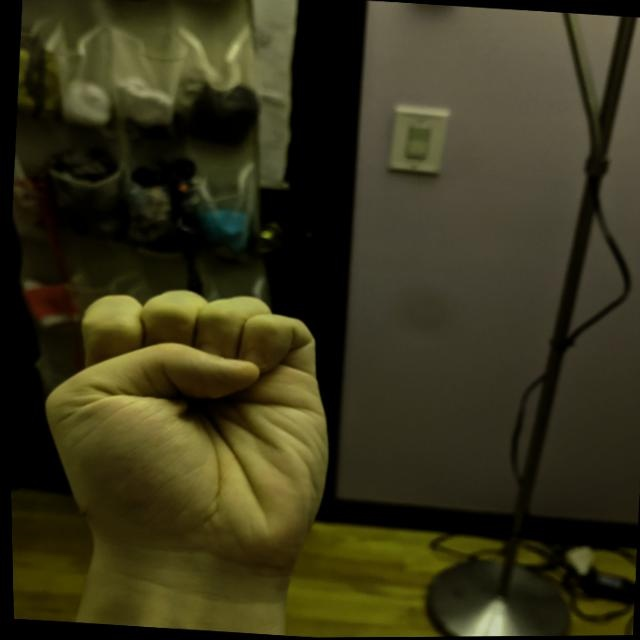E: (18, 273, 350, 594)
